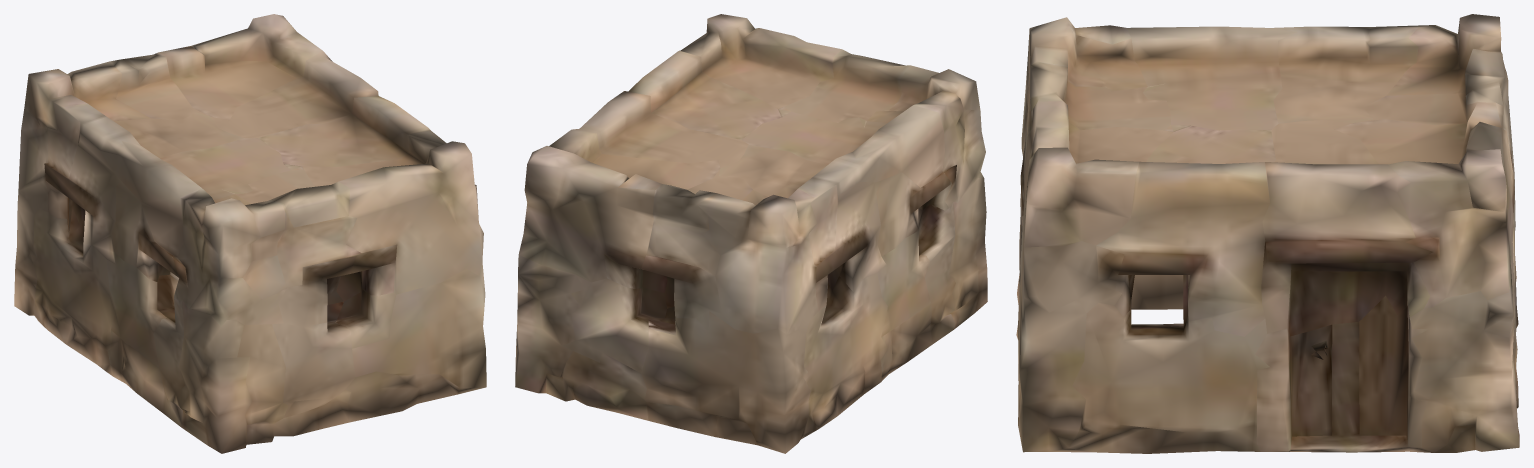
The model's file is house-01-tripo-v2.glb.
3 views of the same model, side by side, from view 1: azimuth 30°, elevation 25°; view 2: azimuth 150°, elevation 25°; view 3: azimuth 270°, elevation 25° (orthographic). The views are drawn at different scales.
Parts seen in each view (by area): view 1: tripo_node_ea9dc221-7ed0-4d46-8b67-2300c3f712eb; view 2: tripo_node_ea9dc221-7ed0-4d46-8b67-2300c3f712eb; view 3: tripo_node_ea9dc221-7ed0-4d46-8b67-2300c3f712eb.
Boxes of the visible parts, <box> form: tripo_node_ea9dc221-7ed0-4d46-8b67-2300c3f712eb: <box>14,14,486,453</box>; tripo_node_ea9dc221-7ed0-4d46-8b67-2300c3f712eb: <box>515,14,987,453</box>; tripo_node_ea9dc221-7ed0-4d46-8b67-2300c3f712eb: <box>1016,14,1519,453</box>.
Size of the model in its own units: 0.7607 by 0.6248 by 0.9954.
Materials: 1 (1 with a texture image).
